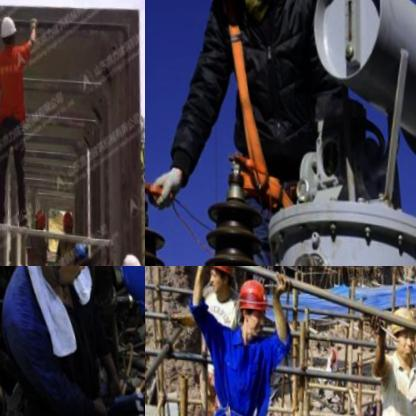helmet: (104, 266, 145, 321), (229, 278, 267, 337), (381, 300, 416, 361), (199, 266, 235, 296), (0, 13, 20, 60), (59, 237, 89, 266), (26, 200, 46, 240), (52, 208, 71, 239), (111, 249, 139, 266)
